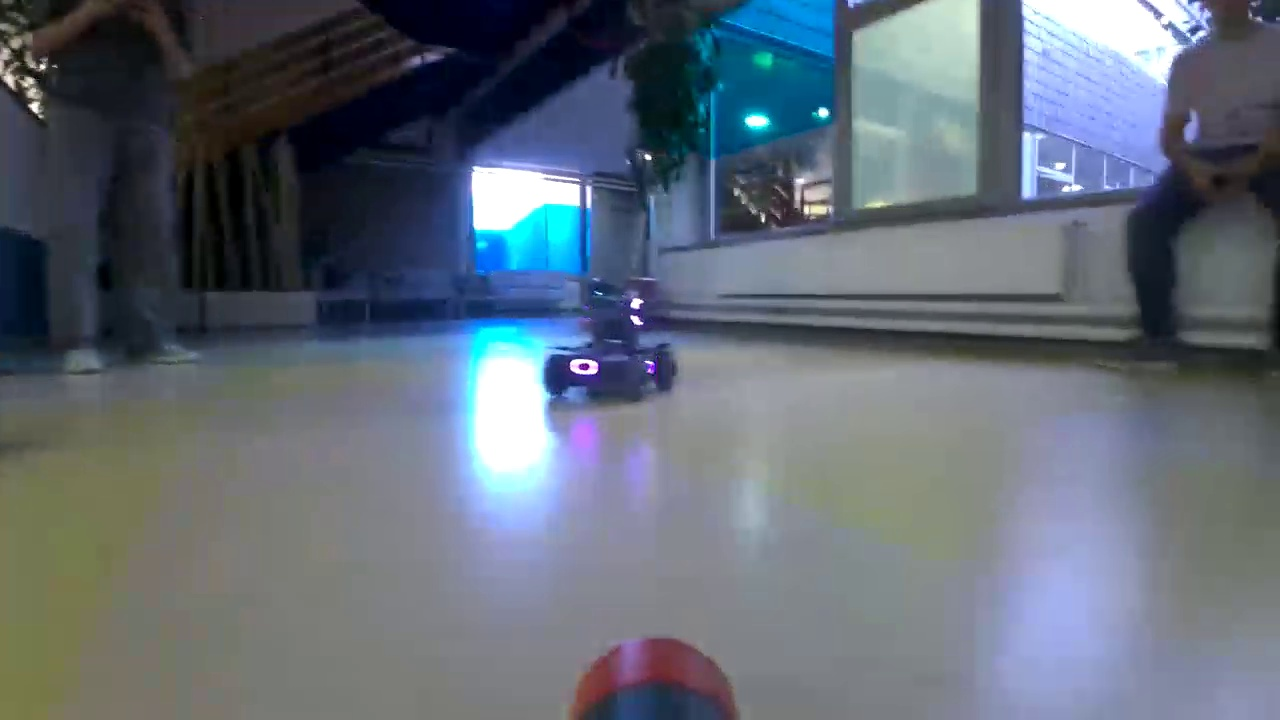robot: (545, 278, 672, 396)
